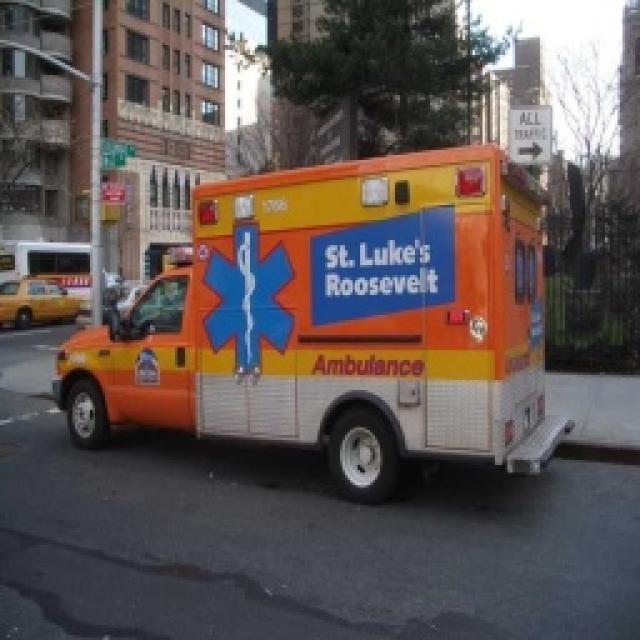emergency-vehicle: (55, 134, 567, 513)
